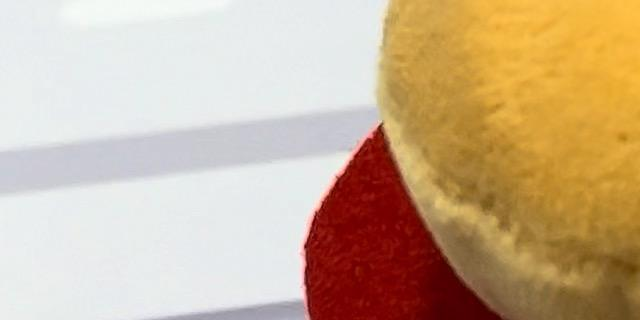burger: (273, 0, 640, 320)
